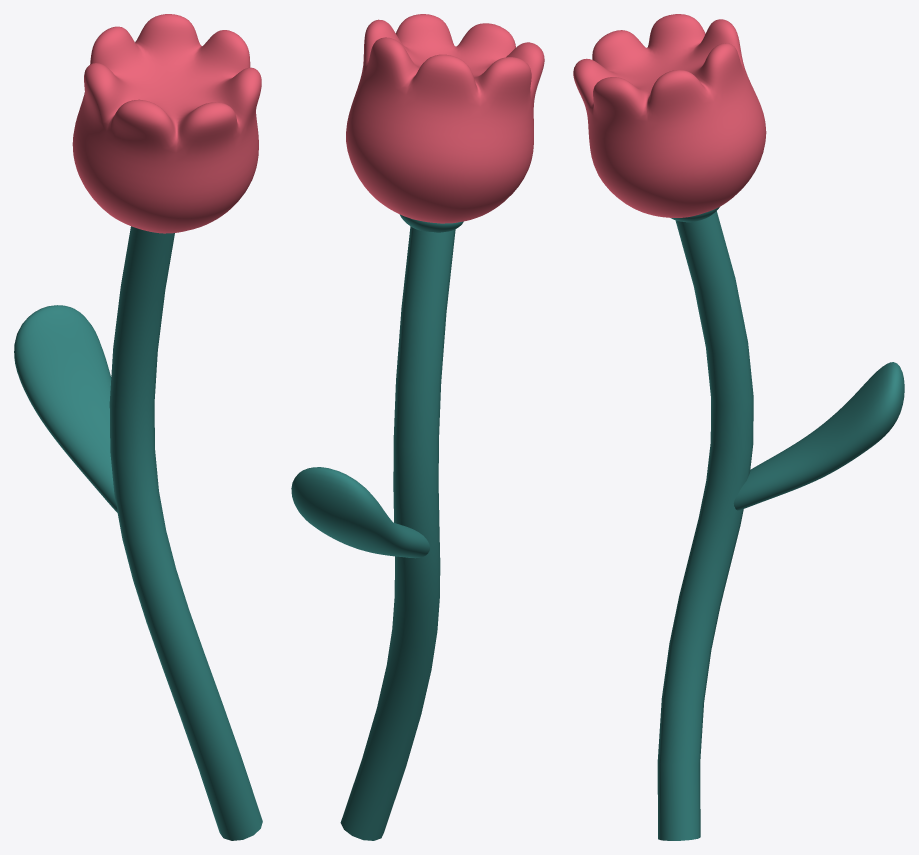
Rendered from fleur.fbx.
The picture shows the model from 3 angles, left to right: view 1: azimuth 30°, elevation 25°; view 2: azimuth 150°, elevation 25°; view 3: azimuth 270°, elevation 25°; orthographic projection. The views are drawn at different scales.
Parts seen in each view (by area): view 1: Sphere.015, Sphere.014; view 2: Sphere.015, Sphere.014; view 3: Sphere.015, Sphere.014.
Part boxes in pixels (box(x1,y1,x2,y2)): Sphere.015: box(14, 226, 262, 840); Sphere.014: box(72, 14, 261, 233); Sphere.015: box(291, 214, 463, 840); Sphere.014: box(346, 14, 544, 223); Sphere.015: box(657, 207, 904, 840); Sphere.014: box(573, 14, 766, 217).
Size of the model in its own units: 36.37 by 161 by 62.57.
